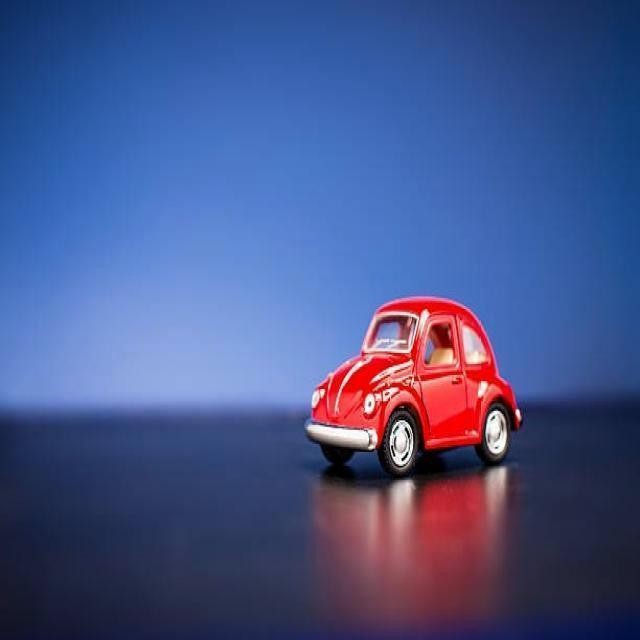car: (312, 296, 524, 485)
